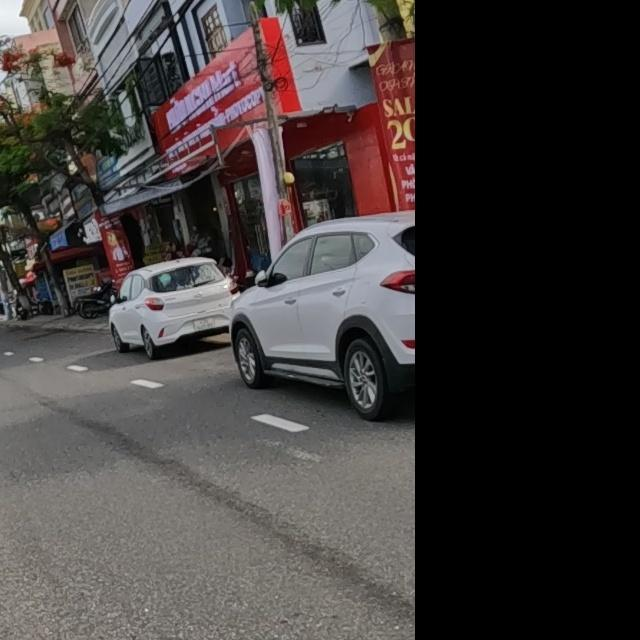license-plate: (192, 316, 216, 332)
